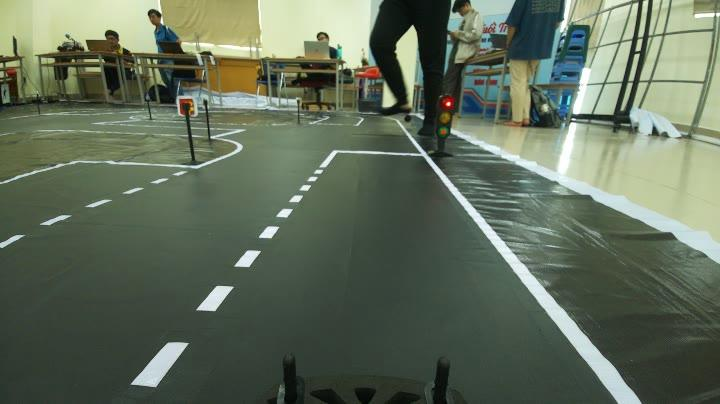trafficlight: (426, 89, 460, 162)
